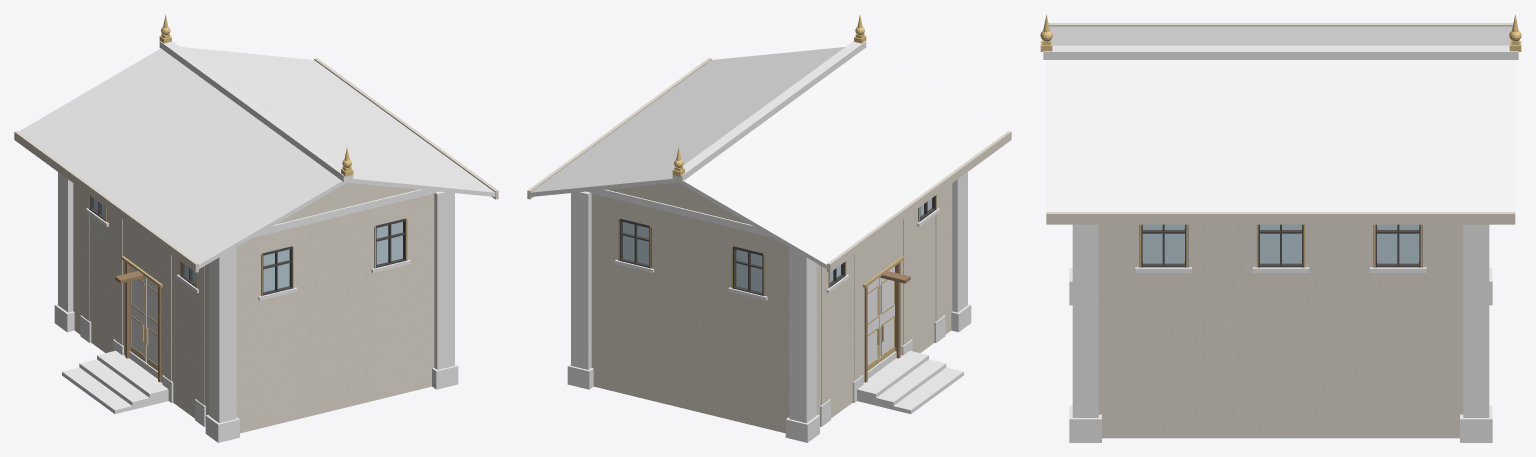
File: gedung-gym-v4.glb
The picture shows the model from 3 angles, left to right: view 1: azimuth 30°, elevation 25°; view 2: azimuth 150°, elevation 25°; view 3: azimuth 270°, elevation 25°; orthographic projection. The views are drawn at different scales.
Visible parts, largest first — view 1: Merged_Plester, Merged_Atap, Merged_PlesterGelap, Merged_Batu, Merged_Kaca, Merged_LogamGelap, Merged_PerungguHangat, PintuUtama_DaunR, PintuUtama_DaunL, Merged_EmasRedup; view 2: Merged_Plester, Merged_Atap, Merged_PlesterGelap, Merged_Batu, Merged_Kaca, Merged_LogamGelap, Merged_PerungguHangat, PintuUtama_DaunL, PintuUtama_DaunR, Merged_EmasRedup; view 3: Merged_Atap, Merged_Plester, Merged_PlesterGelap, Merged_Kaca, Merged_Batu, Merged_LogamGelap, Merged_EmasRedup, Merged_Emas.
Part boxes in pixels (bbox=[...]): Merged_Plester: bbox=[14, 58, 498, 433]; Merged_Atap: bbox=[18, 41, 495, 268]; Merged_PlesterGelap: bbox=[58, 172, 454, 423]; Merged_Batu: bbox=[54, 208, 458, 442]; Merged_Kaca: bbox=[94, 198, 402, 292]; Merged_LogamGelap: bbox=[89, 195, 405, 295]; Merged_PerungguHangat: bbox=[115, 262, 161, 382]; PintuUtama_DaunR: bbox=[130, 266, 146, 362]; PintuUtama_DaunL: bbox=[146, 278, 157, 365]; Merged_EmasRedup: bbox=[89, 195, 407, 296]; Merged_Plester: bbox=[527, 58, 1011, 433]; Merged_Atap: bbox=[528, 41, 1006, 269]; Merged_PlesterGelap: bbox=[571, 172, 967, 422]; Merged_Batu: bbox=[567, 208, 971, 442]; Merged_Kaca: bbox=[623, 198, 931, 292]; Merged_LogamGelap: bbox=[619, 195, 935, 295]; Merged_PerungguHangat: bbox=[864, 262, 910, 382]; PintuUtama_DaunL: bbox=[879, 266, 894, 362]; PintuUtama_DaunR: bbox=[867, 278, 879, 365]; Merged_EmasRedup: bbox=[618, 195, 936, 296]; Merged_Atap: bbox=[1043, 26, 1518, 211]; Merged_Plester: bbox=[1046, 23, 1515, 438]; Merged_PlesterGelap: bbox=[1072, 224, 1489, 417]; Merged_Kaca: bbox=[1143, 224, 1418, 263]; Merged_Batu: bbox=[1069, 267, 1492, 442]; Merged_LogamGelap: bbox=[1139, 224, 1422, 267]; Merged_EmasRedup: bbox=[1139, 224, 1422, 267]; Merged_Emas: bbox=[1040, 14, 1521, 51].
Bounding box in the file's own units: 14.64 × 11.99 × 14.78.
20 materials, 2 textured.
